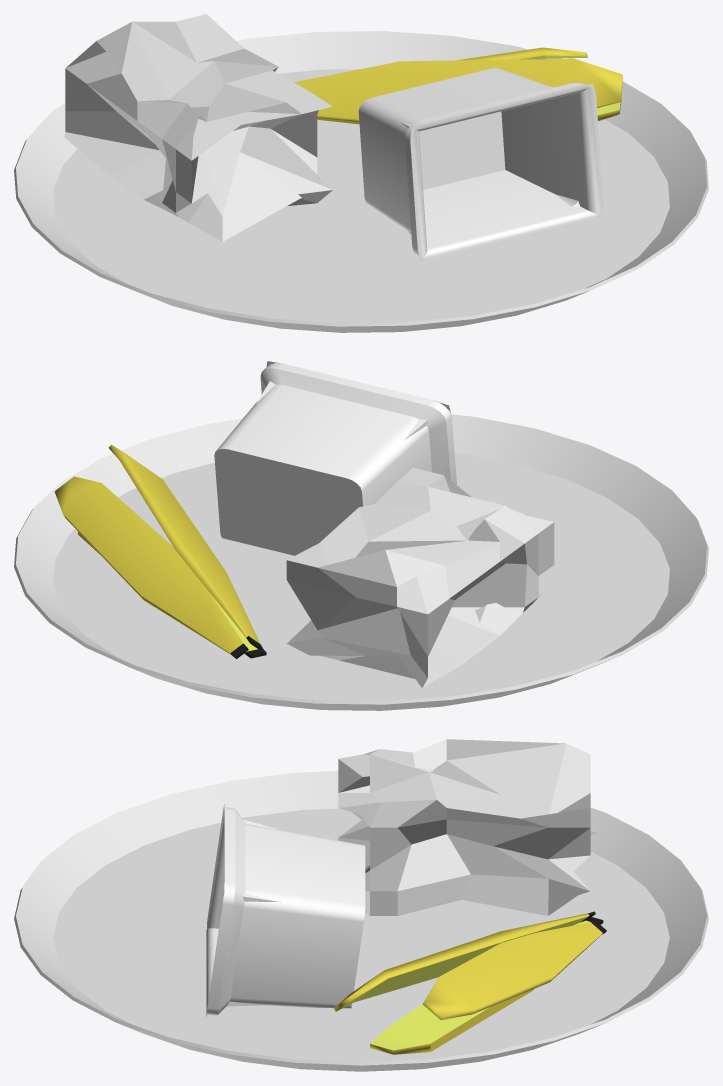
Rendered from garbage.fbx.
The picture shows the model from 3 angles, top to bottom: view 1: azimuth 30°, elevation 25°; view 2: azimuth 150°, elevation 25°; view 3: azimuth 270°, elevation 25°; orthographic projection.
Parts seen in each view (by area): view 1: Papierteller, Cube.010, Cube, Cube.004, Cube.007; view 2: Papierteller, Cube.010, Cube, Cube.007, Cube.004; view 3: Papierteller, Cube.010, Cube, Cube.007, Cube.004, Cube.003, Cube.006, Cube.001.
Boxes of the visible parts, bbox=[...] form: Papierteller: bbox=[14, 31, 708, 332]; Cube.010: bbox=[64, 14, 332, 241]; Cube: bbox=[358, 68, 603, 260]; Cube.004: bbox=[294, 58, 622, 121]; Cube.007: bbox=[458, 47, 587, 60]; Papierteller: bbox=[14, 414, 708, 710]; Cube.010: bbox=[286, 467, 554, 688]; Cube: bbox=[214, 361, 456, 555]; Cube.007: bbox=[54, 476, 243, 654]; Cube.004: bbox=[109, 444, 260, 643]; Papierteller: bbox=[14, 771, 708, 1071]; Cube.010: bbox=[338, 739, 596, 915]; Cube: bbox=[206, 804, 365, 1016]; Cube.007: bbox=[422, 922, 602, 1019]; Cube.004: bbox=[334, 913, 589, 1011]; Cube.003: bbox=[370, 920, 590, 1050]; Cube.006: bbox=[338, 916, 588, 1010]; Cube.001: bbox=[370, 988, 534, 1054].
Size of the model in its own units: 24.14 by 5.32 by 24.14.
